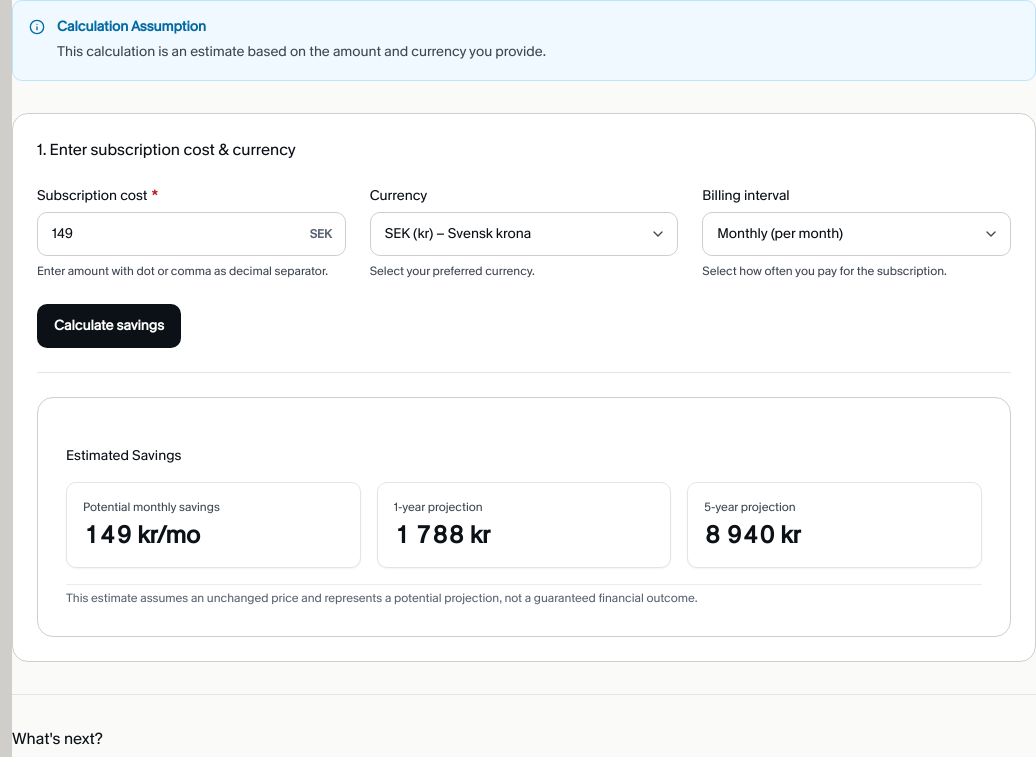
Test: SavingsCalculator Component › handles yearly billing interval correctly
Select "Yearly (per year)" in the dropdown labelled "Billing interval": (857, 234) [702,212,1011,256]
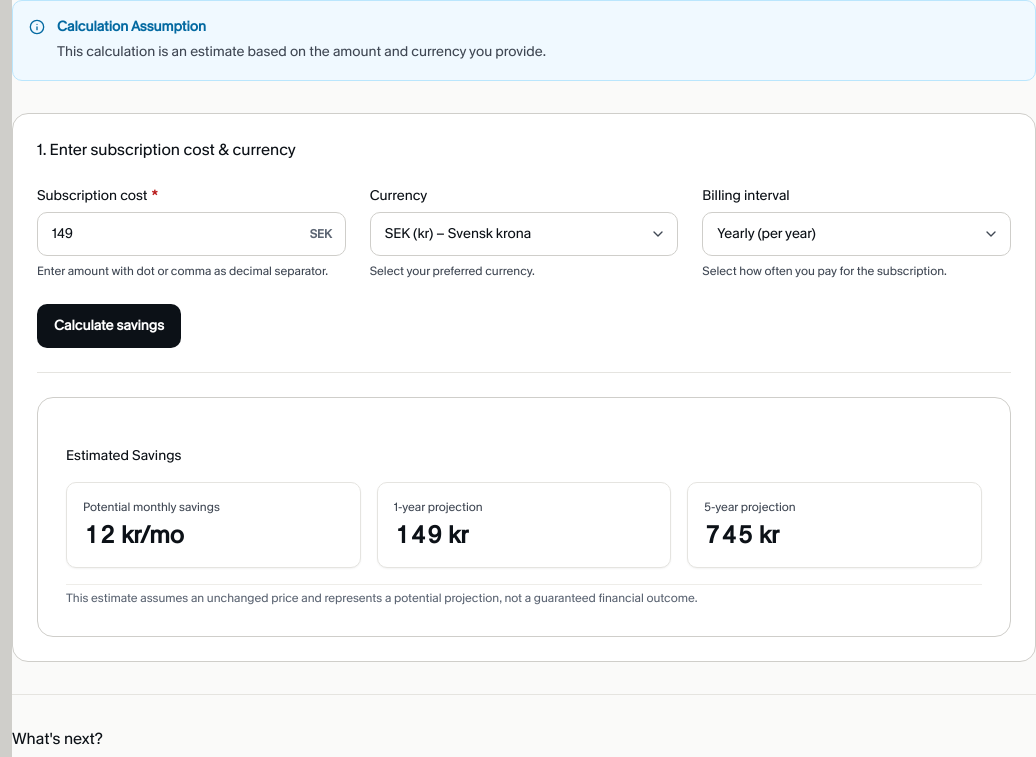
Replace the text in the field labelled "Subscription cost *" with "1200": (191, 234) [37,212,346,256]
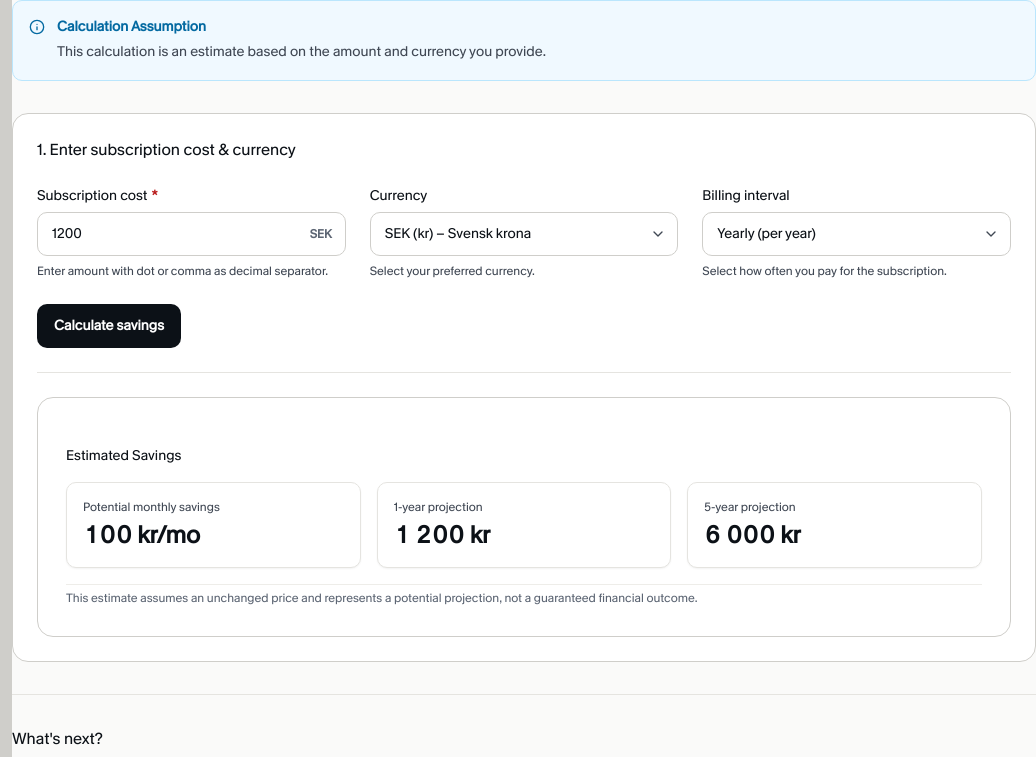
Expected: the text "100 kr/mo" is shown, [83,519,200,551]
Expected: the text "1 200 kr" is shown, [394,519,490,551]
Expected: the text "6 000 kr" is shown, [704,519,801,551]
